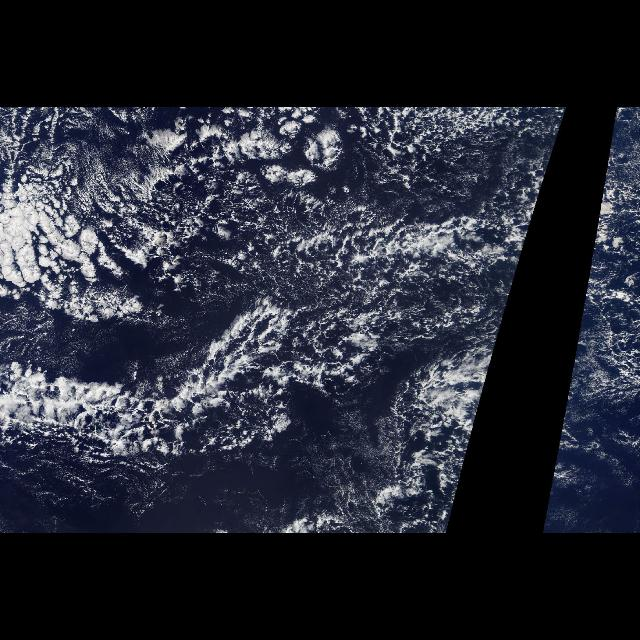Fish: (11, 117, 499, 529), (542, 428, 562, 528)
Gravel: (266, 115, 566, 391), (582, 116, 638, 296)
